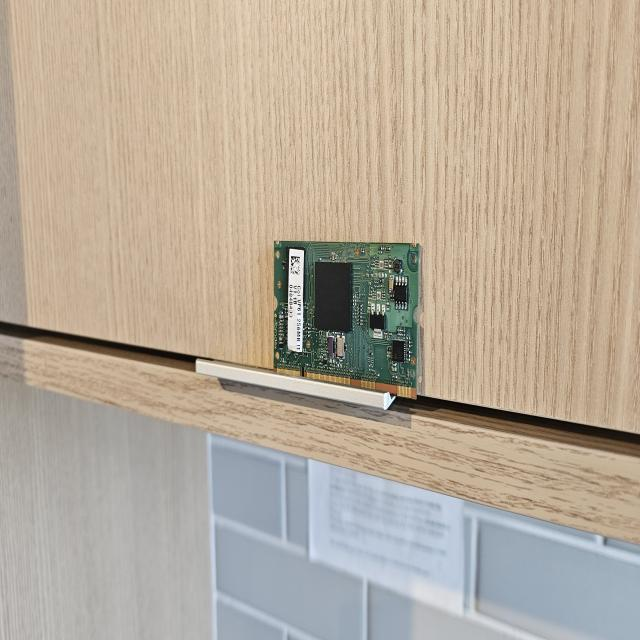som: (263, 229, 425, 398)
